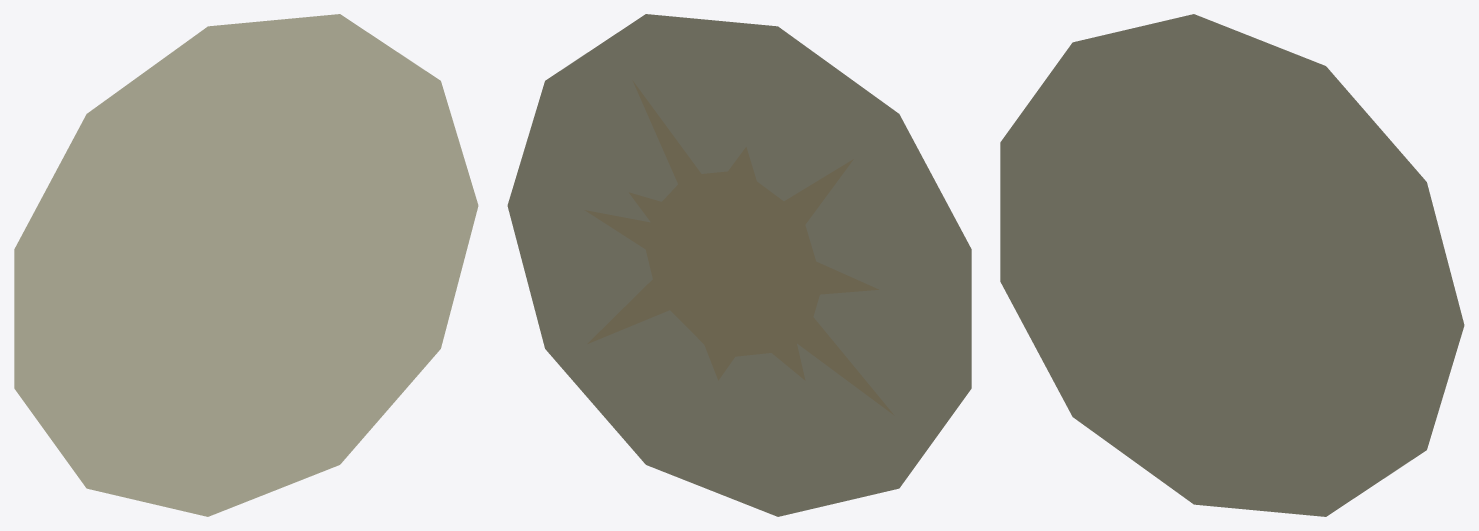
The model's file is StrobeBurn.glb.
3 renders of one model, left to right at view 1: azimuth 30°, elevation 25°; view 2: azimuth 150°, elevation 25°; view 3: azimuth 330°, elevation 25°, orthographic.
Visible parts, largest first — view 1: StrobeBurn; view 2: StrobeBurn; view 3: StrobeBurn.
Boxes of the visible parts, box(x1,y1,x2,y2) form: StrobeBurn: box(14, 14, 478, 516); StrobeBurn: box(507, 14, 971, 516); StrobeBurn: box(1000, 14, 1464, 516).
Size of the model in its own units: 1.1 by 1.11 by 0.0259.
